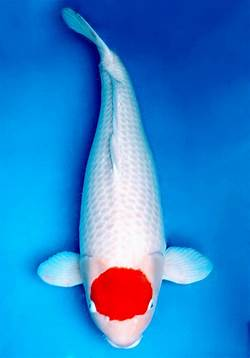sun: (37, 6, 213, 350)
